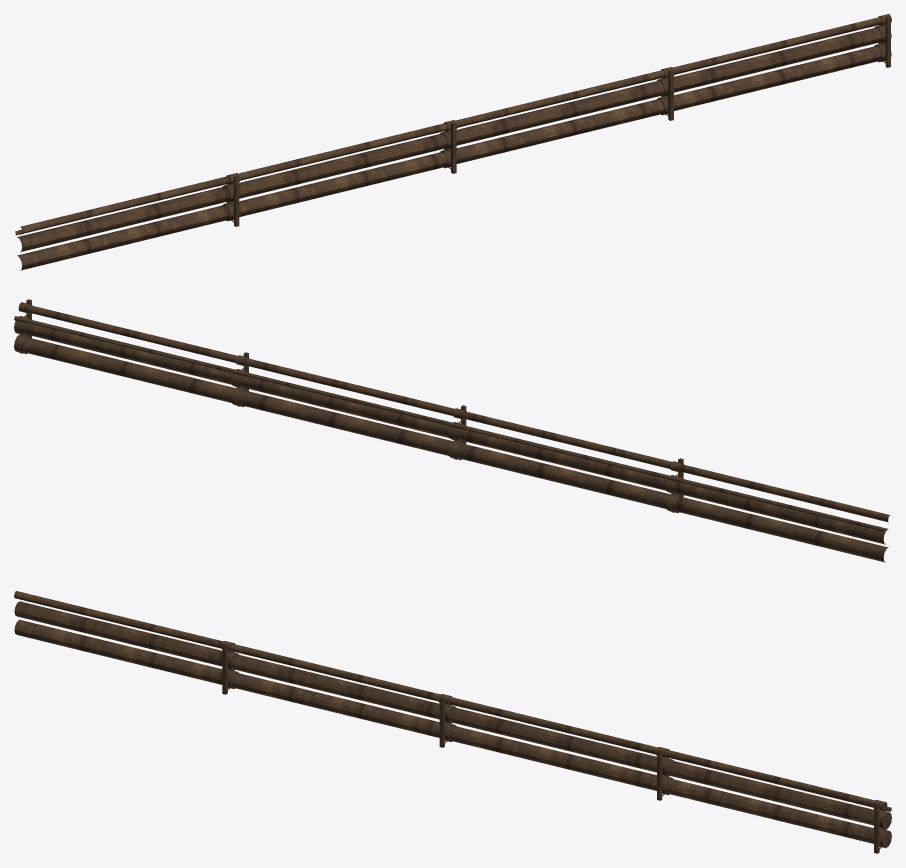
The model's file is pipeset08d_512_001a.glb.
3 renders of one model, top to bottom at view 1: azimuth 30°, elevation 25°; view 2: azimuth 150°, elevation 25°; view 3: azimuth 330°, elevation 25°, orthographic.
Parts seen in each view (by area): view 1: 0_pipeset_metal; view 2: 0_pipeset_metal; view 3: 0_pipeset_metal.
Boxes of the visible parts, <box> form: 0_pipeset_metal: <box>15,14,891,270</box>; 0_pipeset_metal: <box>14,299,890,562</box>; 0_pipeset_metal: <box>14,591,891,853</box>.
Size of the model in its own units: 13 by 0.7112 by 0.3048.
Materials: 1 (1 with a texture image).
